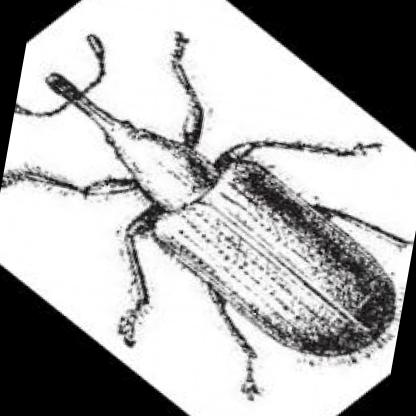ash weevil: (16, 42, 395, 401)
